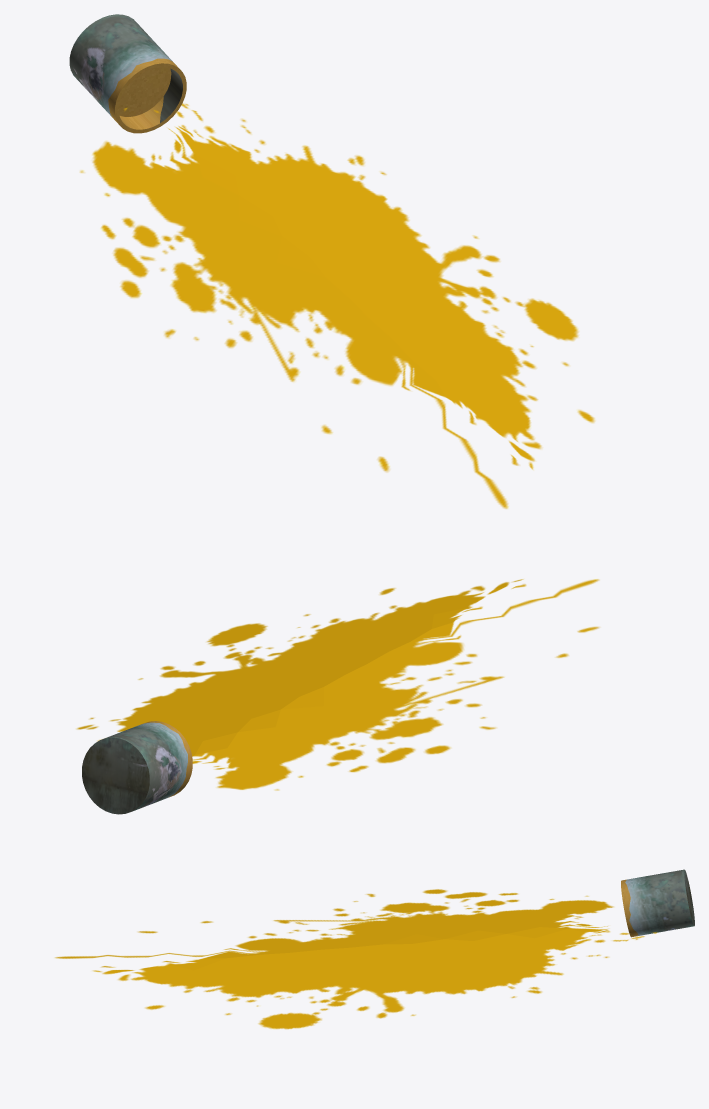
Rendered from paintbucket.glb.
The picture shows the model from 3 angles, top to bottom: view 1: azimuth 30°, elevation 25°; view 2: azimuth 150°, elevation 25°; view 3: azimuth 270°, elevation 25°; orthographic projection. The views are drawn at different scales.
Visible parts, largest first — view 1: Uten navn-1, Cylinder.028; view 2: Uten navn-1, Cylinder.028; view 3: Uten navn-1, Cylinder.028.
Boxes of the visible parts, x1,y1,x2,y2 form: Uten navn-1: (80, 103, 594, 508); Cylinder.028: (69, 14, 186, 133); Uten navn-1: (76, 579, 599, 790); Cylinder.028: (82, 721, 192, 814); Uten navn-1: (55, 889, 657, 1029); Cylinder.028: (621, 869, 694, 937).
Bounding box in the file's own units: 2.22 × 0.4754 × 2.72.
Materials: 3 (3 with a texture image).
